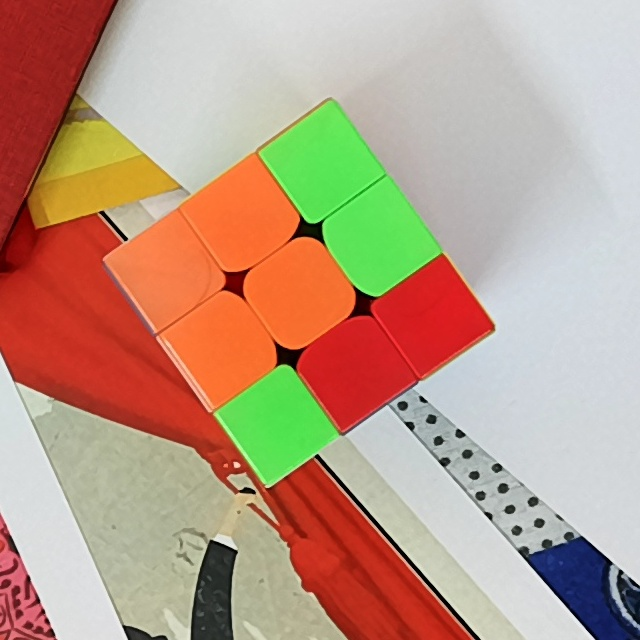tile: (346, 206, 411, 274), (268, 259, 333, 324), (209, 185, 274, 250), (192, 312, 255, 378), (400, 284, 467, 346), (321, 339, 387, 401), (289, 133, 353, 196), (245, 392, 307, 456), (137, 237, 196, 301)
